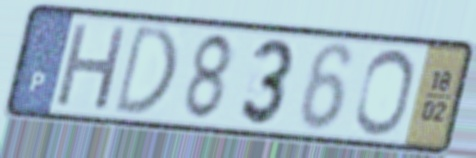3: (239, 35, 298, 128)
6: (293, 38, 359, 137)
8: (182, 30, 238, 124)
D: (109, 20, 180, 118)
H: (52, 18, 132, 114)
O: (351, 46, 417, 139)
